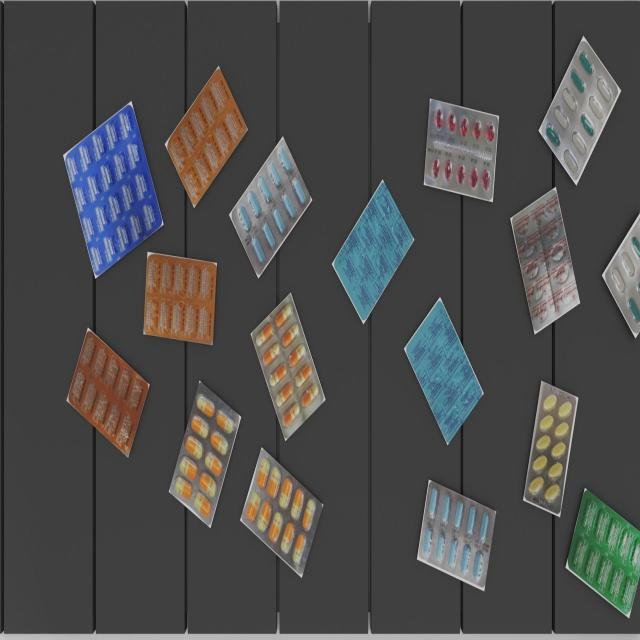blister: (65, 105, 161, 278), (332, 175, 414, 322), (402, 297, 483, 444), (231, 135, 310, 278), (539, 39, 618, 182), (252, 290, 323, 442), (240, 448, 323, 578), (168, 68, 246, 206), (68, 327, 149, 456), (169, 380, 239, 526), (512, 190, 580, 334), (568, 489, 640, 616), (417, 479, 497, 589), (425, 97, 498, 202), (523, 381, 578, 519), (144, 254, 217, 345), (604, 209, 640, 337)
